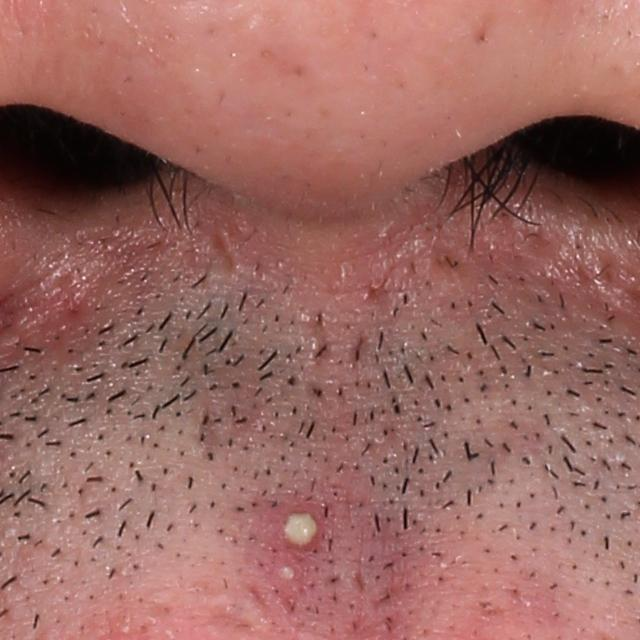atrophic_scar: (200, 218, 241, 278)
pustule: (260, 500, 331, 565), (270, 558, 301, 585)
